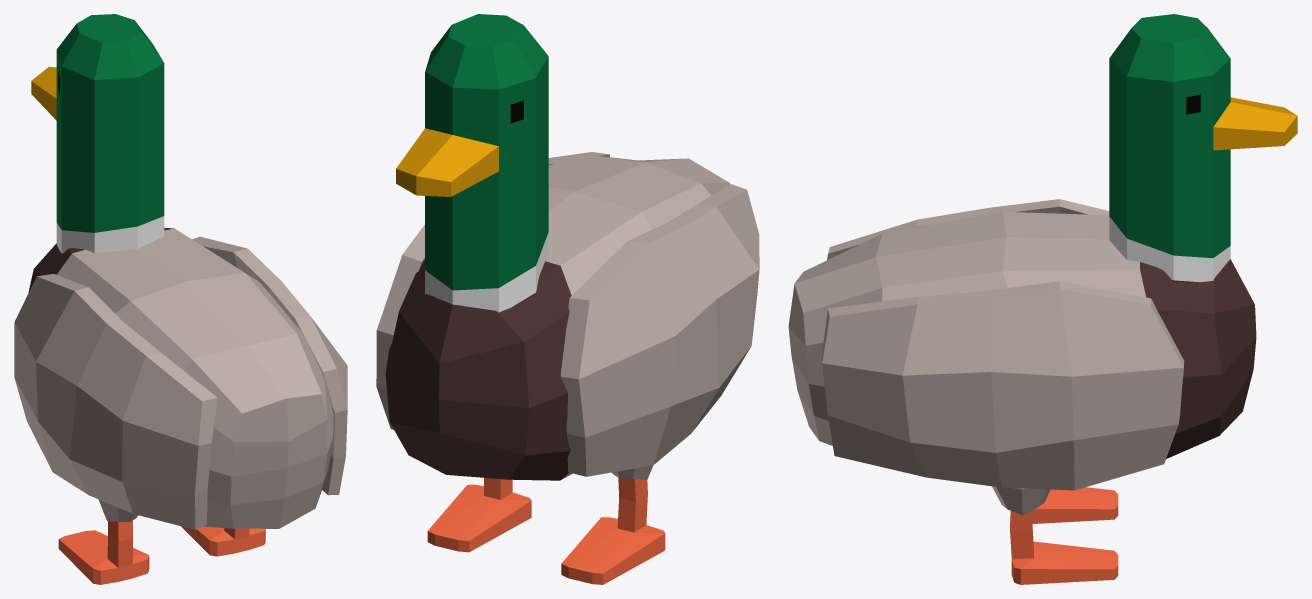
File: bottle.fbx
3 views of the same model, side by side, from view 1: azimuth 30°, elevation 25°; view 2: azimuth 150°, elevation 25°; view 3: azimuth 270°, elevation 25° (orthographic). The views are drawn at different scales.
Visible parts, largest first — view 1: Entities_duck_body; view 2: Entities_duck_body; view 3: Entities_duck_body.
Part boxes in pixels (bbox=[...]): Entities_duck_body: bbox=[14, 14, 347, 584]; Entities_duck_body: bbox=[376, 14, 759, 584]; Entities_duck_body: bbox=[788, 14, 1297, 584].
Size of the model in its own units: 33.93 by 64.41 by 58.02.
